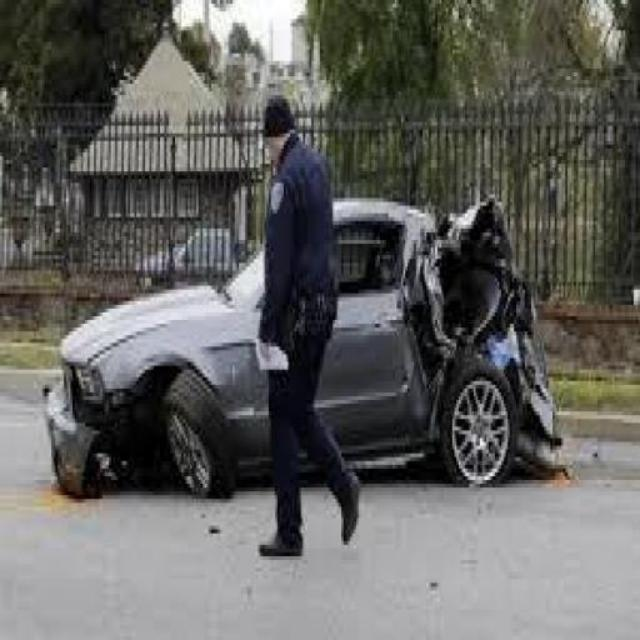crash: (403, 198, 560, 464)
dislocated part: (43, 326, 238, 493)
